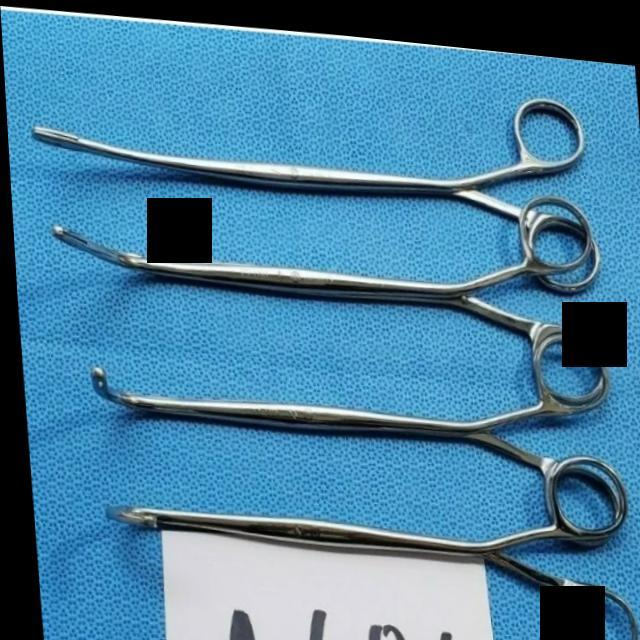Randall: (38, 143, 604, 390)
